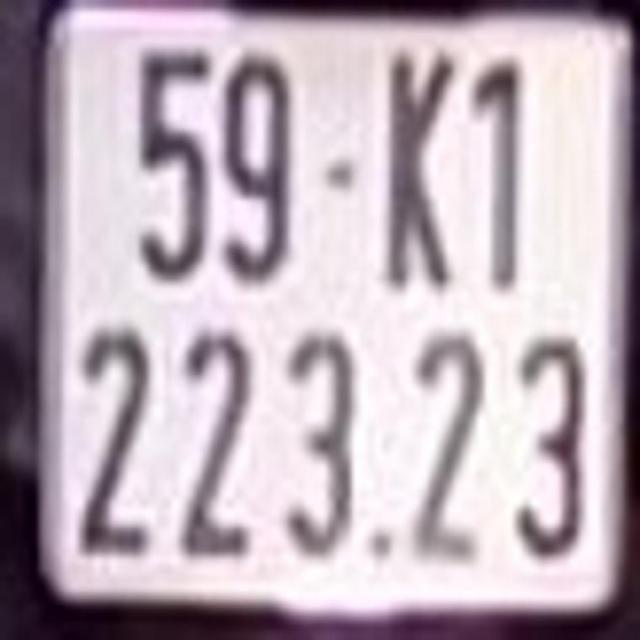1: (471, 52, 520, 286)
2: (81, 329, 147, 554), (185, 324, 250, 551), (414, 326, 477, 558)
3: (286, 328, 356, 562), (520, 332, 578, 558)
5: (139, 42, 210, 285)
9: (225, 52, 286, 274)
K: (386, 50, 456, 287)
